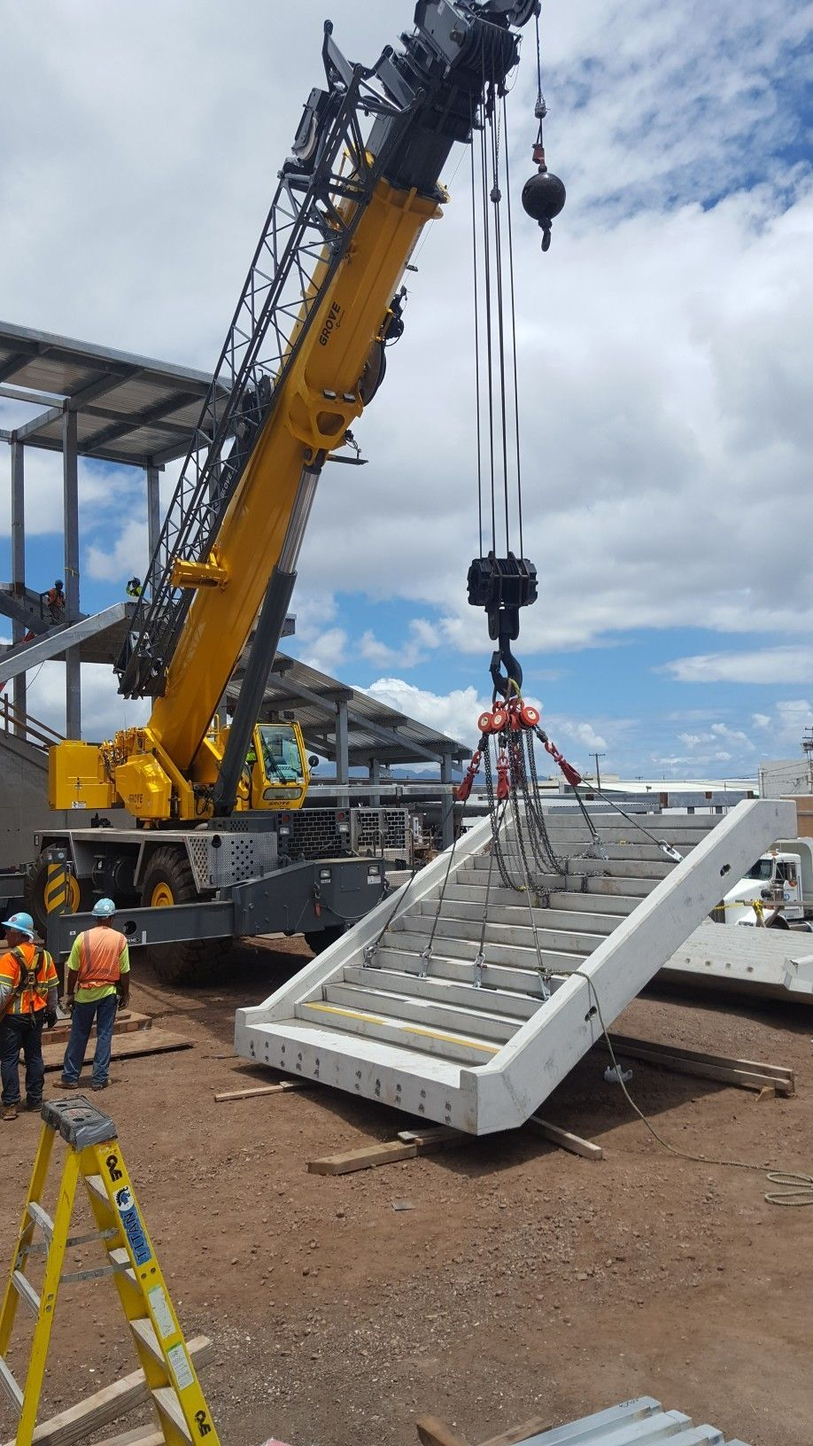crane: (156, 24, 675, 1074)
hardhat: (11, 902, 53, 955), (89, 890, 118, 929)
person: (61, 875, 141, 1127), (7, 888, 80, 1139)
safety_vest: (68, 921, 130, 1041), (11, 953, 53, 1051)
